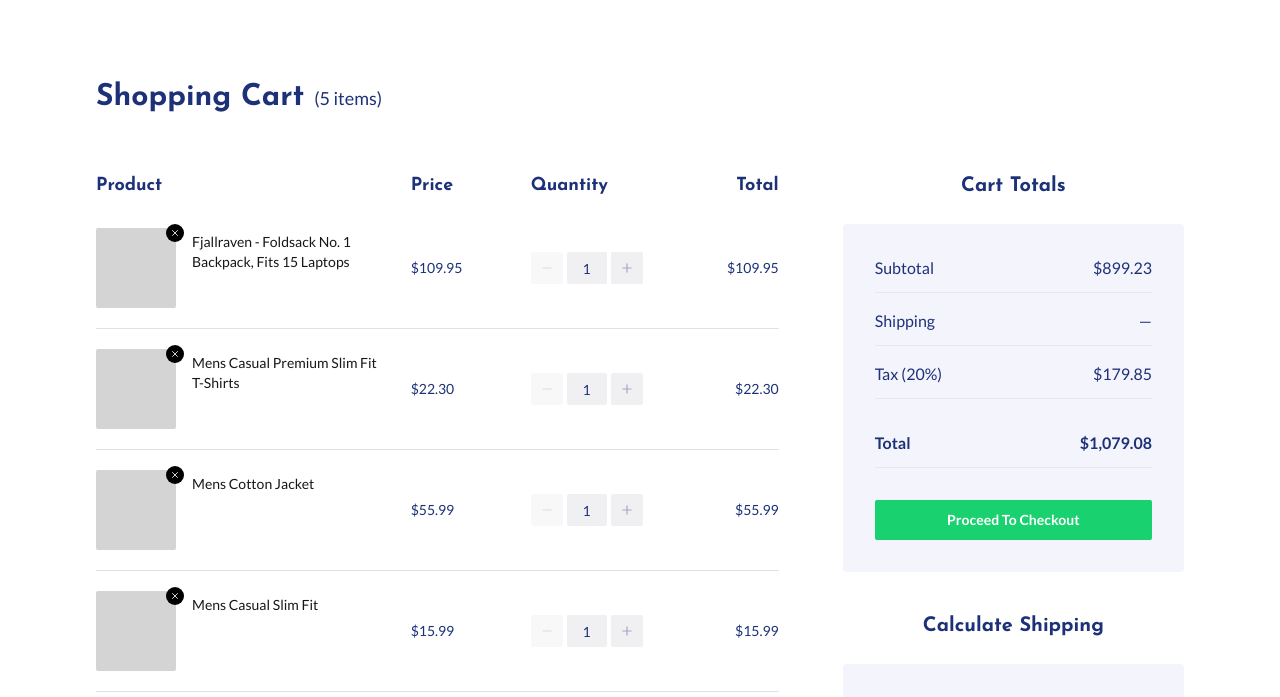
Test: updates the line, count and totals when a quantity changes
Click the button named "Increase quantity of Mens Cotton Jacket".
click(627, 510)  # box [611, 494, 643, 526]
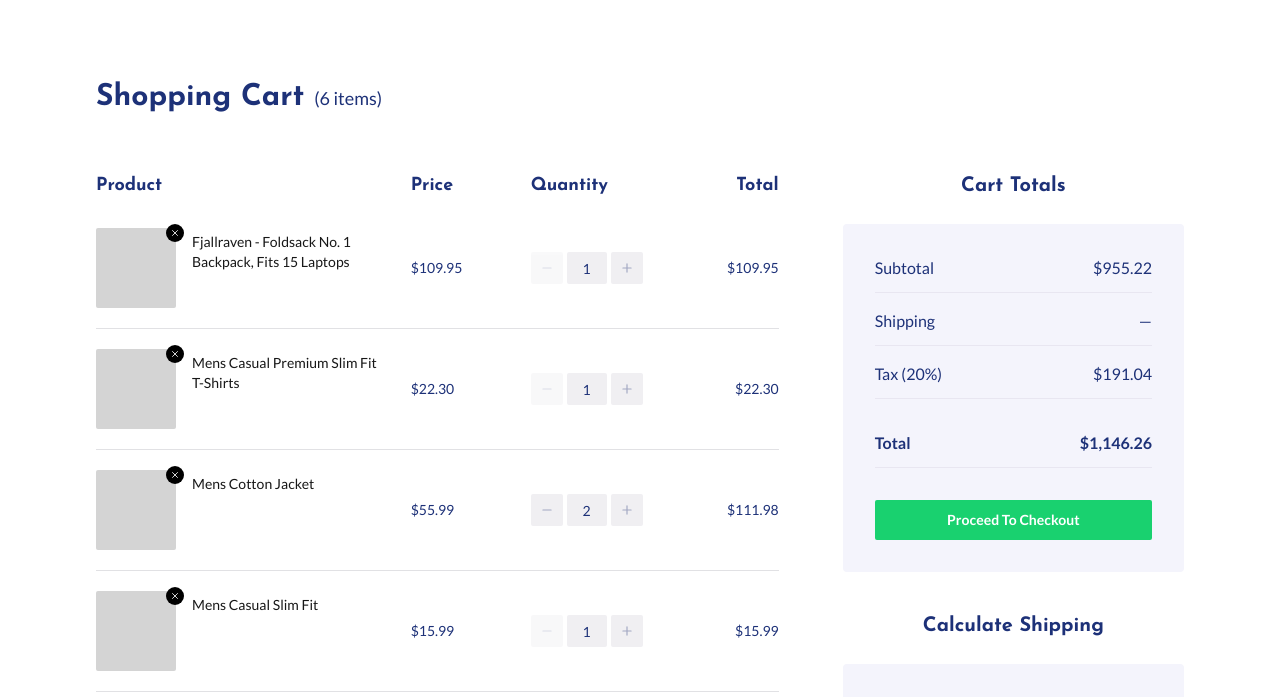
Check: the text "$111.98" is shown, box [683, 500, 779, 520]
Check: the heading "Shopping Cart (6 items)" is shown, box [96, 82, 382, 113]
Check: the element that starts with "Subtotal" shows "$955.22", box [1093, 258, 1152, 277]
